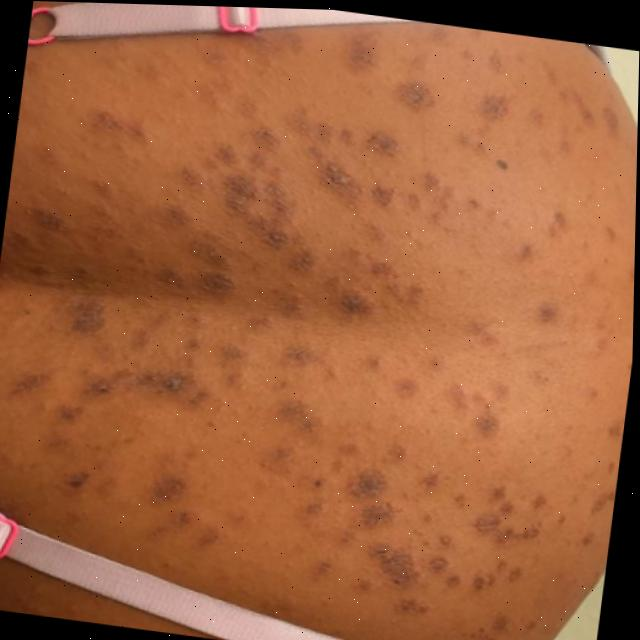Rosacea: (25, 19, 610, 601)
